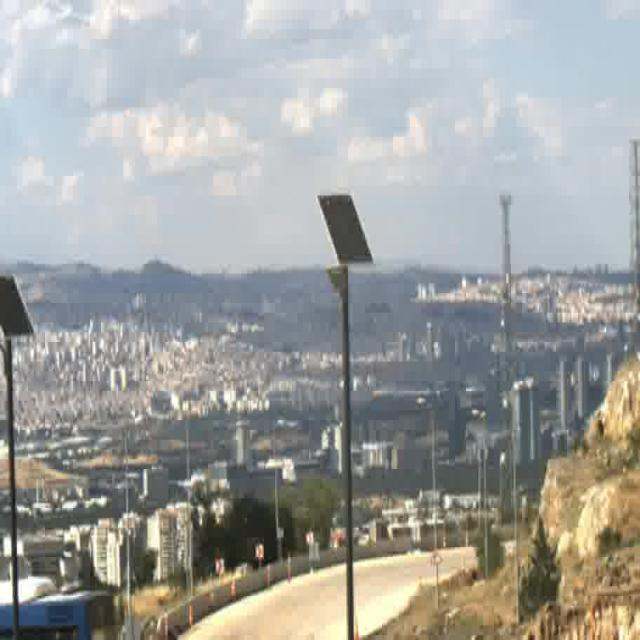Bus: (0, 576, 118, 640)
